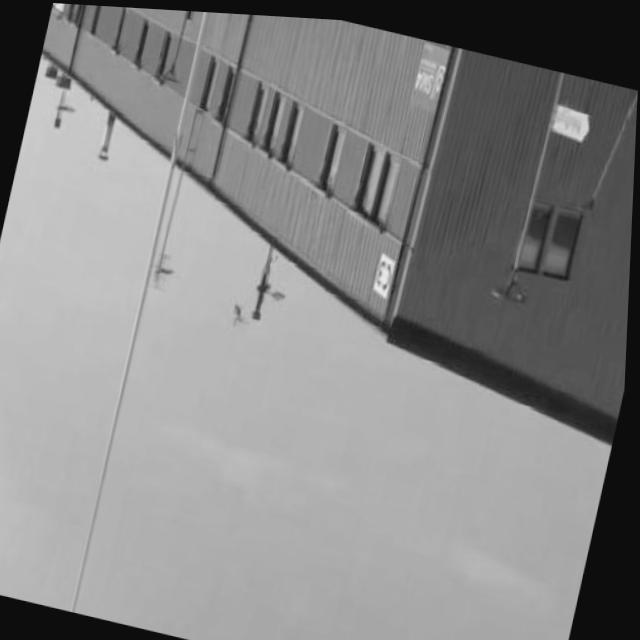helikopter: (223, 289, 255, 337)
